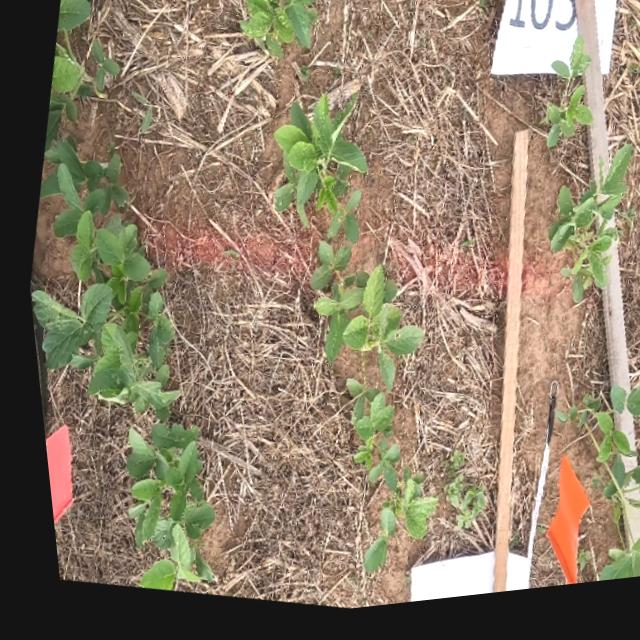caruru_weed: (432, 458, 474, 539)
soy_plant: (26, 39, 202, 592), (268, 104, 425, 579), (543, 159, 626, 308), (550, 393, 640, 527), (585, 501, 640, 593), (240, 0, 318, 60), (542, 53, 586, 157), (56, 0, 91, 44)
